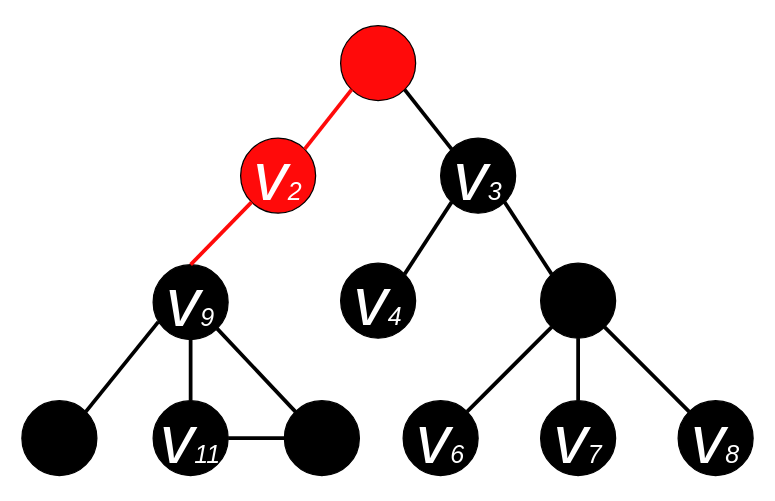
This 775x501 diagram has some shape labels left out. The box of each missing label's shape, as (x1, y1, x2, y2) in pixels:
v 1: (339, 24, 416, 101)
v 10: (21, 399, 97, 476)
v 12: (283, 399, 359, 476)
v 5: (539, 262, 616, 338)
